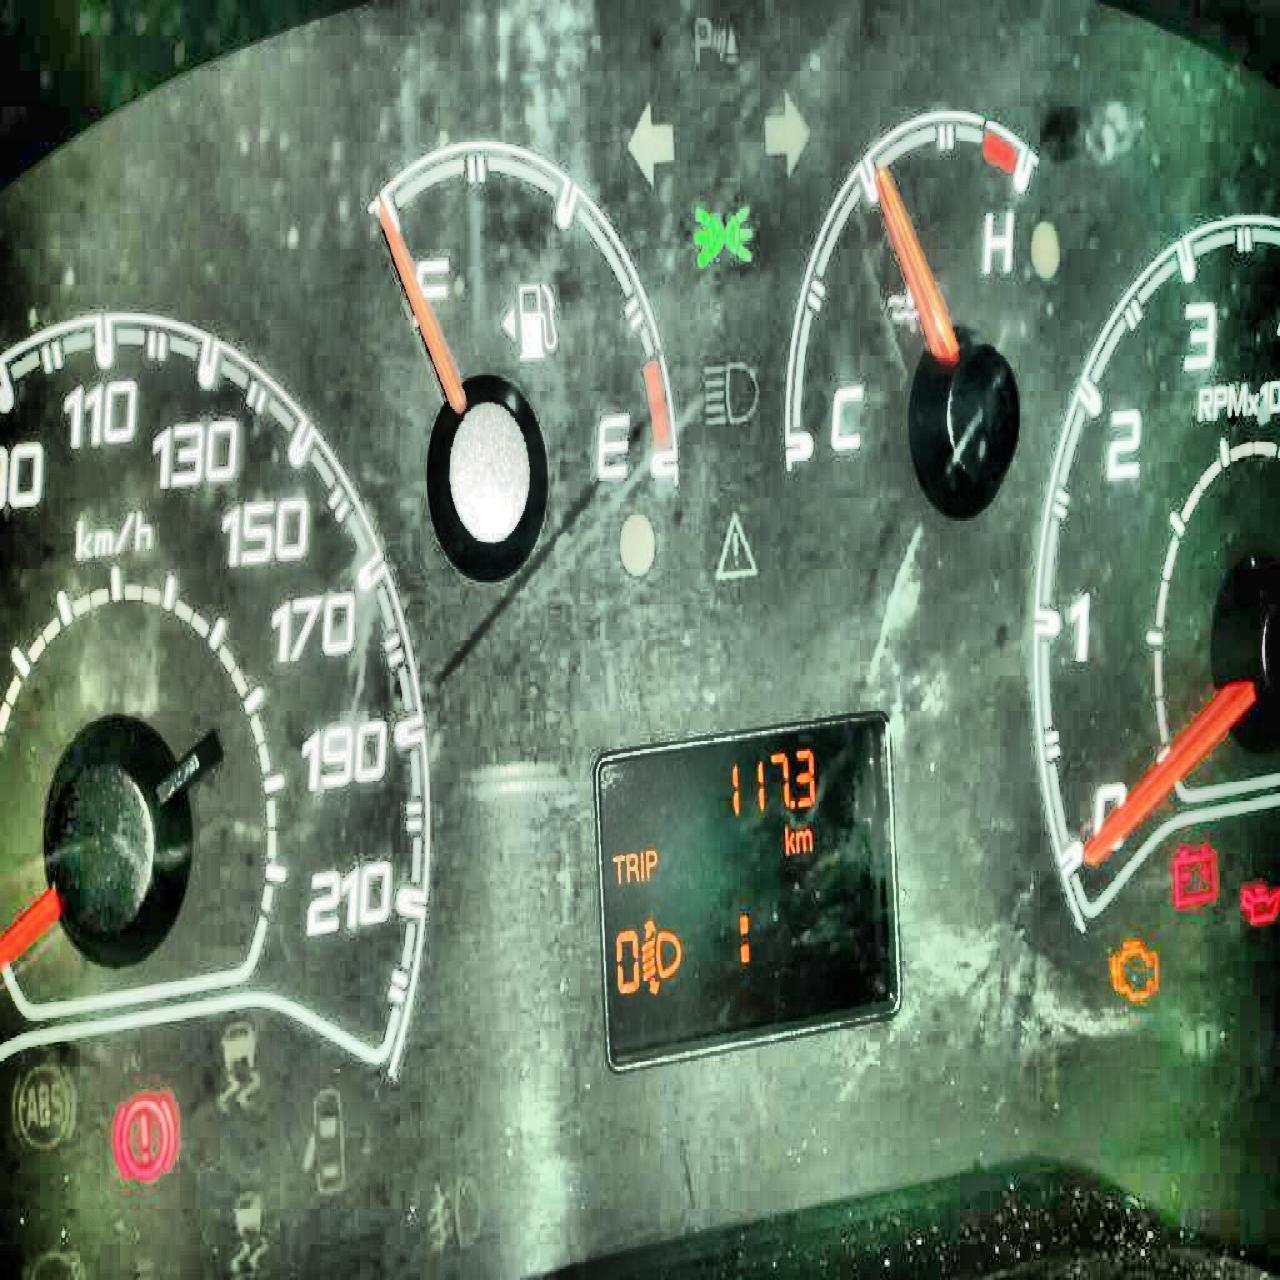-: (789, 794, 794, 811)
0: (613, 925, 639, 1000)
1: (755, 756, 765, 821), (730, 756, 740, 817)
3: (795, 744, 816, 809)
7: (769, 749, 788, 811)
X: (735, 907, 749, 973), (644, 844, 658, 880), (795, 826, 811, 853), (625, 849, 638, 883), (613, 849, 624, 884), (783, 821, 794, 856), (639, 844, 644, 883)
odometer: (587, 702, 905, 1074)
